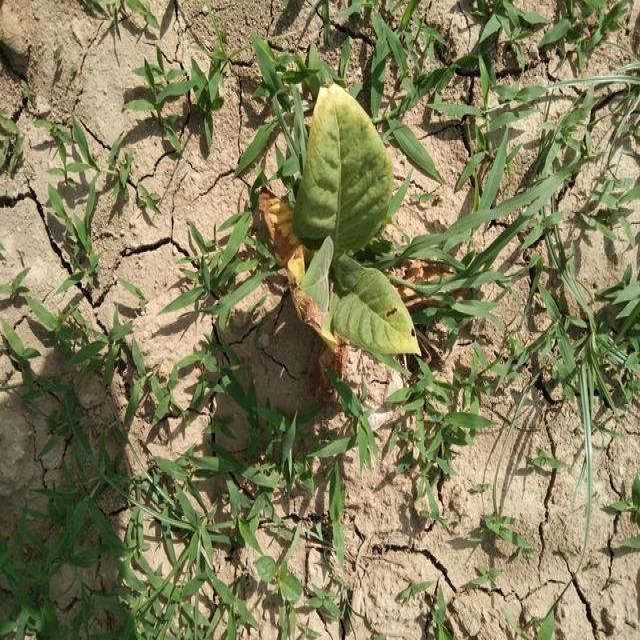crop: (295, 66, 435, 370)
